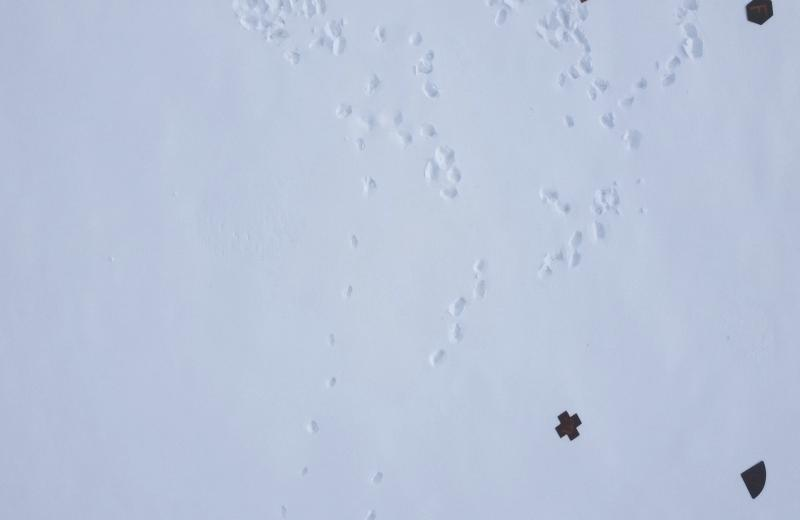Cross: (555, 406, 585, 443)
Hexagon: (742, 0, 778, 27)
Quarter Circle: (737, 456, 769, 503)
